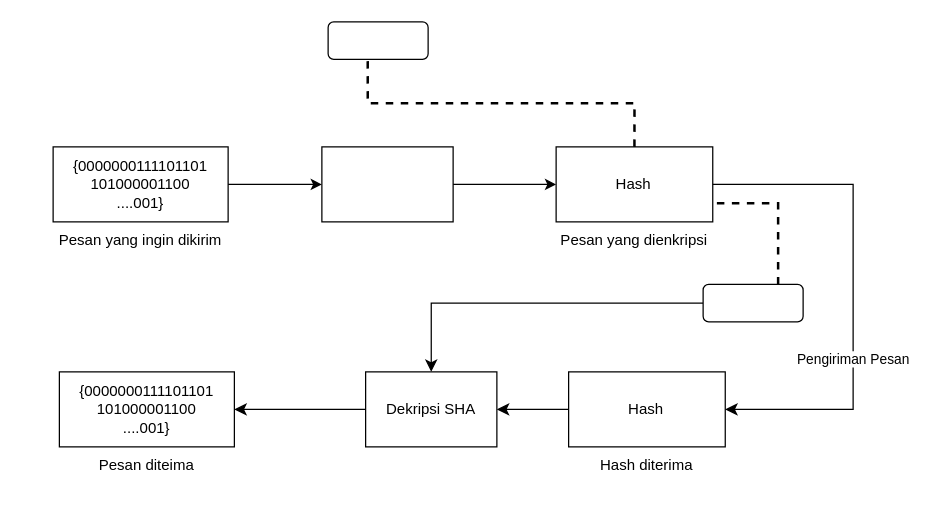
The diagram is 930 pixels wide and 506 high, and some of its shapes have lost their labels. The shapes that lost their labels are listed below. From the top down, each one's centre as x and y in pixels, then its label:
the point at 377,40: Private Key
the point at 387,184: Enkripsi SHA
the point at 752,302: Public Key
